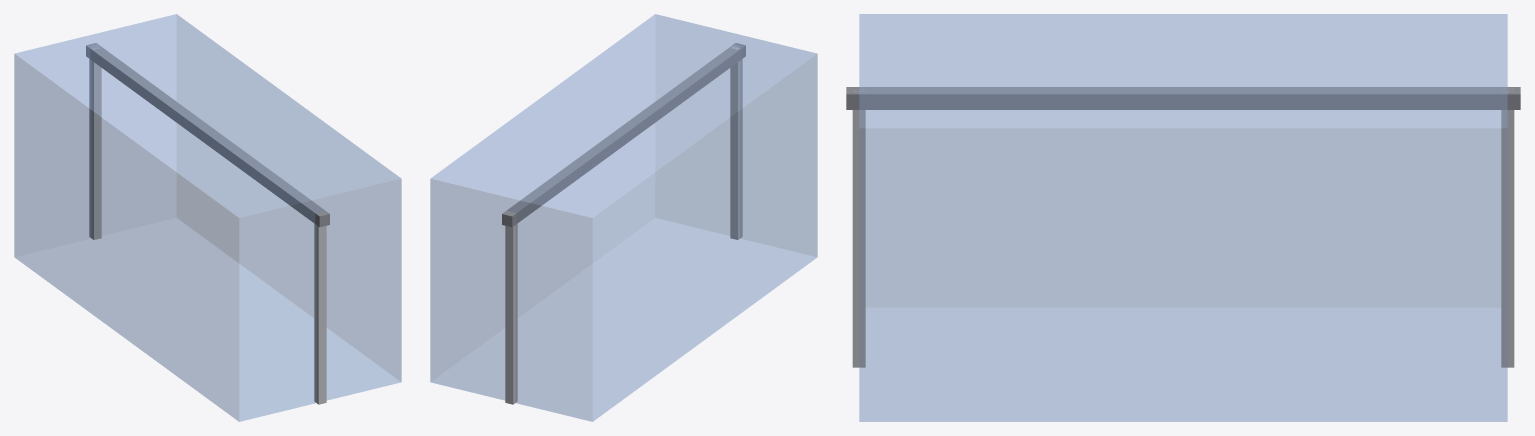
Rendered from PaintTrackBuffer-6m.glb.
The picture shows the model from 3 angles, left to right: view 1: azimuth 30°, elevation 25°; view 2: azimuth 150°, elevation 25°; view 3: azimuth 270°, elevation 25°; orthographic projection. The views are drawn at different scales.
Parts seen in each view (by area): view 1: ProcessZone, TrackBeam, TrackPost (×2); view 2: ProcessZone, TrackBeam, TrackPost (×2); view 3: ProcessZone, TrackBeam, TrackPost (×2).
Boxes of the visible parts, bbox=[...] form: ProcessZone: bbox=[14, 14, 401, 421]; TrackBeam: bbox=[86, 43, 329, 227]; TrackPost (×2): bbox=[89, 45, 326, 404]; ProcessZone: bbox=[430, 14, 817, 421]; TrackBeam: bbox=[502, 43, 745, 227]; TrackPost (×2): bbox=[505, 45, 742, 404]; ProcessZone: bbox=[859, 14, 1507, 421]; TrackBeam: bbox=[846, 87, 1520, 109]; TrackPost (×2): bbox=[852, 88, 1514, 367].
Bounding box in the file's own units: 2.5 × 3 × 6.24.
